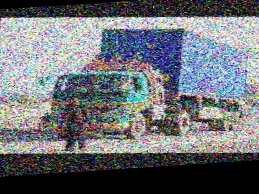truck: (31, 15, 256, 154)
